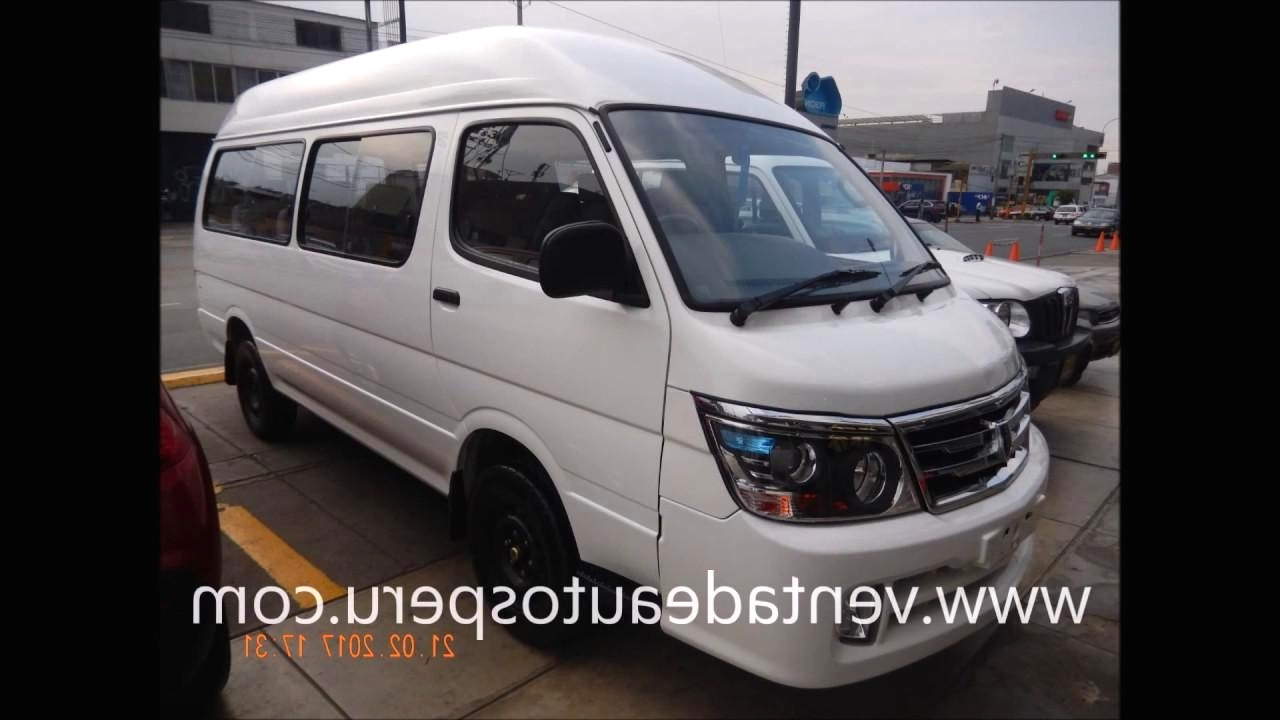van: (184, 24, 1051, 610)
